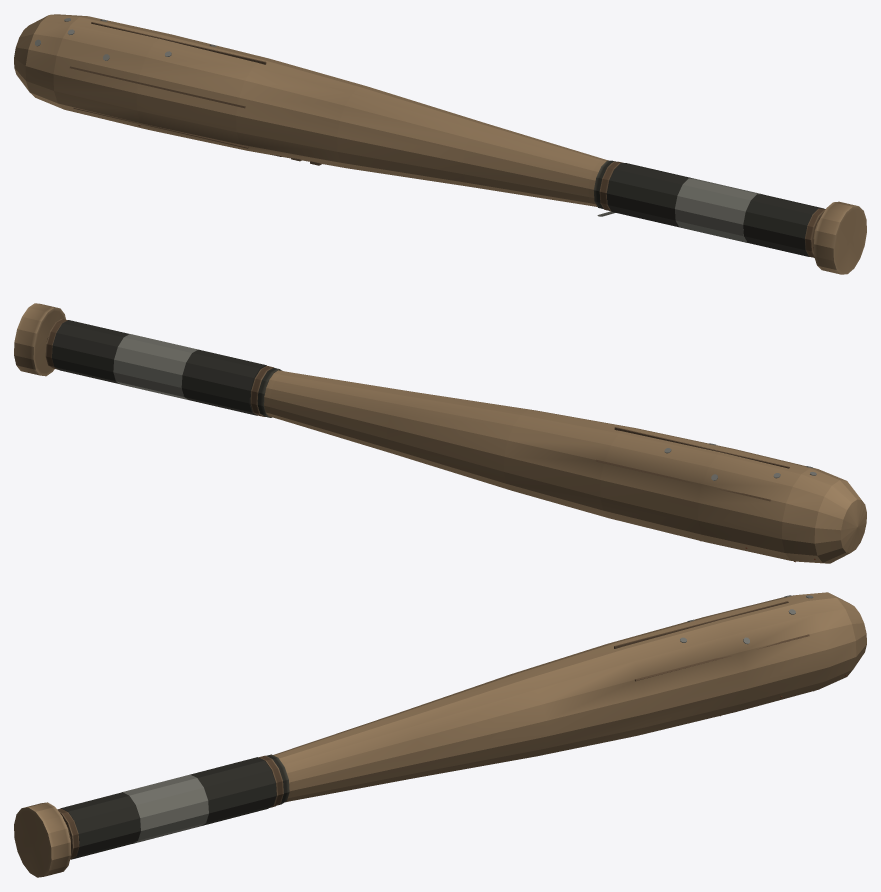
File: bat.glb
The picture shows the model from 3 angles, top to bottom: view 1: azimuth 30°, elevation 25°; view 2: azimuth 210°, elevation 25°; view 3: azimuth 270°, elevation 25°; orthographic projection. The views are drawn at different scales.
Visible parts, largest first — view 1: batWoodBarrel, frissonWeaponDress, batHandleKnob, batStrikeFrame; view 2: batWoodBarrel, frissonWeaponDress, batHandleKnob, batStrikeFrame; view 3: batWoodBarrel, frissonWeaponDress, batHandleKnob, batStrikeFrame.
Part boxes in pixels (x1=…): batWoodBarrel: x1=14, y1=14, x2=820, y2=247; frissonWeaponDress: x1=35, y1=18, x2=824, y2=256; batHandleKnob: x1=814, y1=201, x2=866, y2=274; batStrikeFrame: x1=272, y1=154, x2=825, y2=257; batWoodBarrel: x1=46, y1=337, x2=866, y2=563; frissonWeaponDress: x1=52, y1=320, x2=816, y2=562; batHandleKnob: x1=14, y1=303, x2=65, y2=376; batStrikeFrame: x1=45, y1=319, x2=274, y2=416; batWoodBarrel: x1=64, y1=592, x2=866, y2=841; frissonWeaponDress: x1=60, y1=595, x2=846, y2=859; batHandleKnob: x1=14, y1=802, x2=70, y2=877; batStrikeFrame: x1=57, y1=755, x2=283, y2=859.
Bounding box in the file's own units: 0.6308 × 0.1129 × 0.9627.
